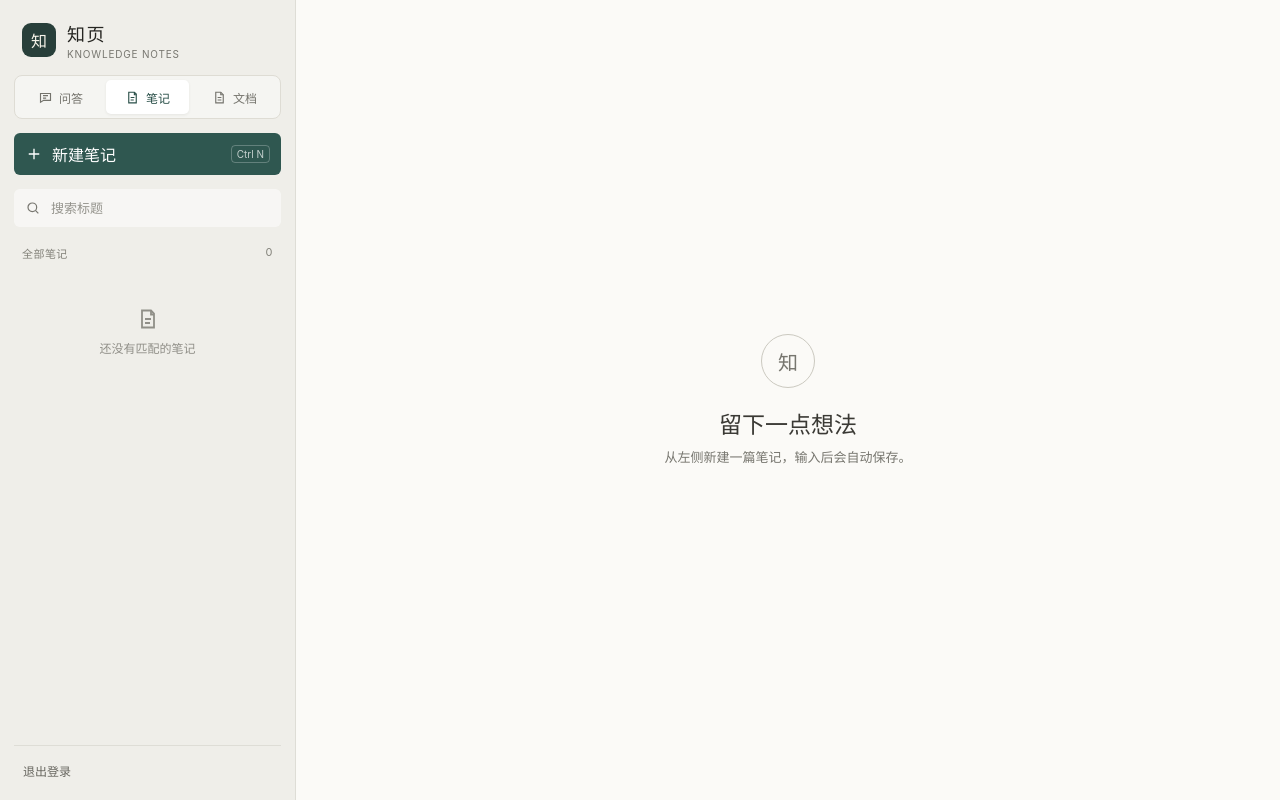
it: 笔记工作区 › 删除会话后立即切换到下一会话
Click the button "问答". click: (60, 97)
box: x1=19 y1=80 x2=102 y2=114
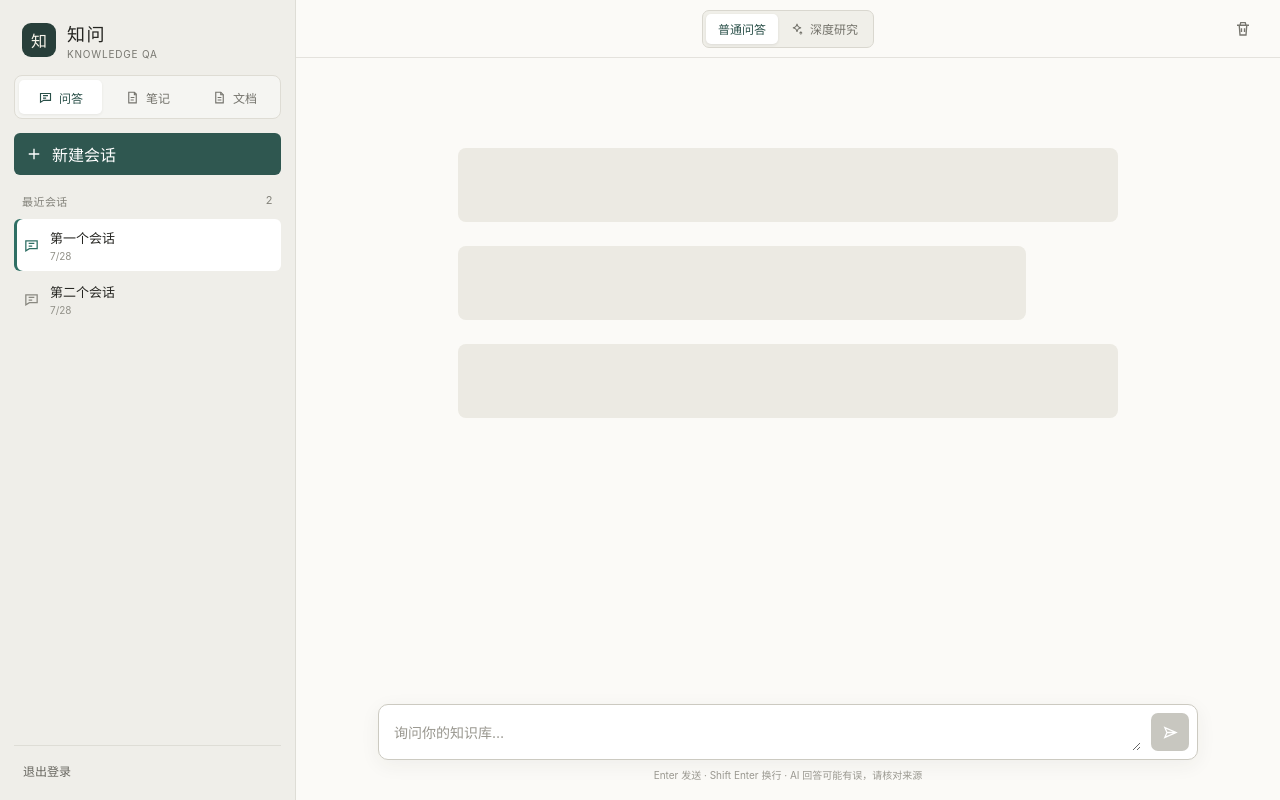
Click the button named "删除当前会话". click: (1243, 28)
box: x1=1226 y1=12 x2=1260 y2=46
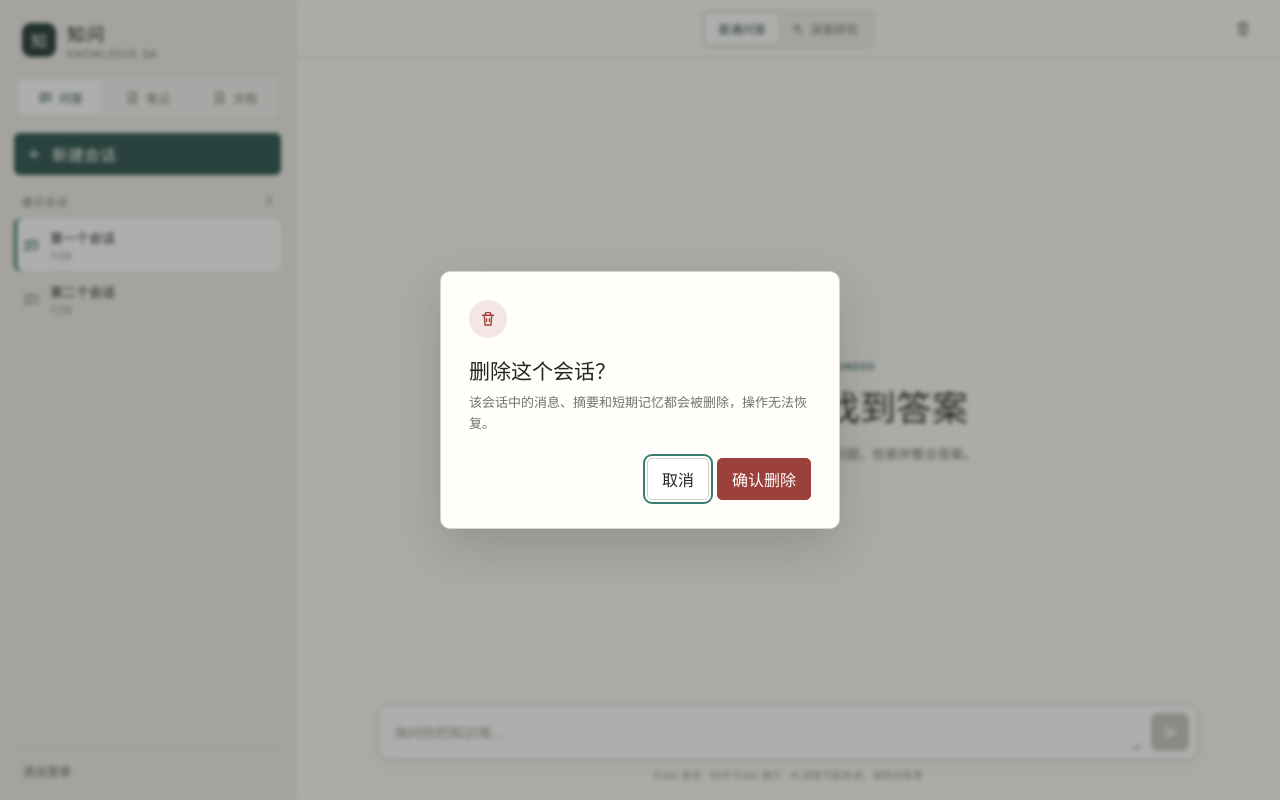
Click the button "确认删除". click: (764, 479)
box: x1=717 y1=458 x2=811 y2=500
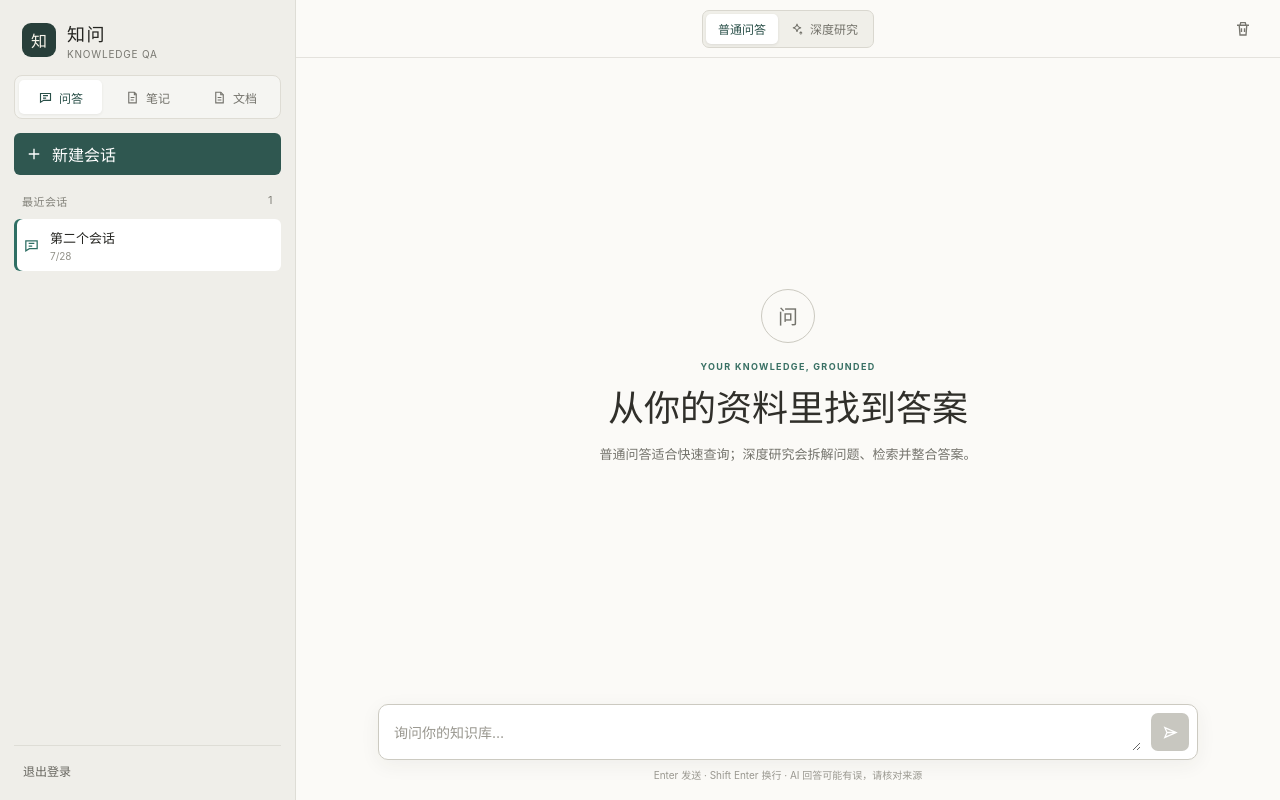
Expected: the button "第一个会话" is gone
